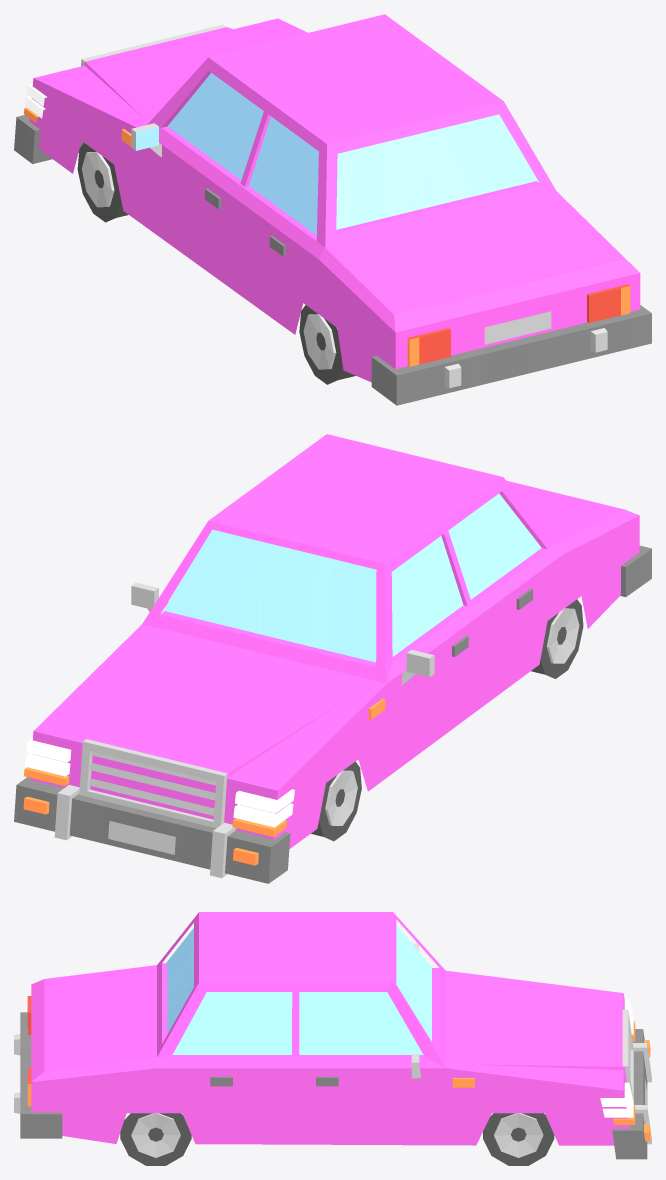
Rendered from transport_cool.004.glb.
The picture shows the model from 3 angles, top to bottom: view 1: azimuth 30°, elevation 25°; view 2: azimuth 150°, elevation 25°; view 3: azimuth 270°, elevation 25°; orthographic projection. The views are drawn at different scales.
Visible parts, largest first — view 1: transport_cool.004(Clone); view 2: transport_cool.004(Clone); view 3: transport_cool.004(Clone).
Part boxes in pixels (x1=…): transport_cool.004(Clone): x1=14, y1=14, x2=651, y2=405; transport_cool.004(Clone): x1=14, y1=434, x2=651, y2=883; transport_cool.004(Clone): x1=14, y1=912, x2=651, y2=1165.
Bounding box in the file's own units: 1.48 × 0.9874 × 3.34.
1 material, 1 textured.
